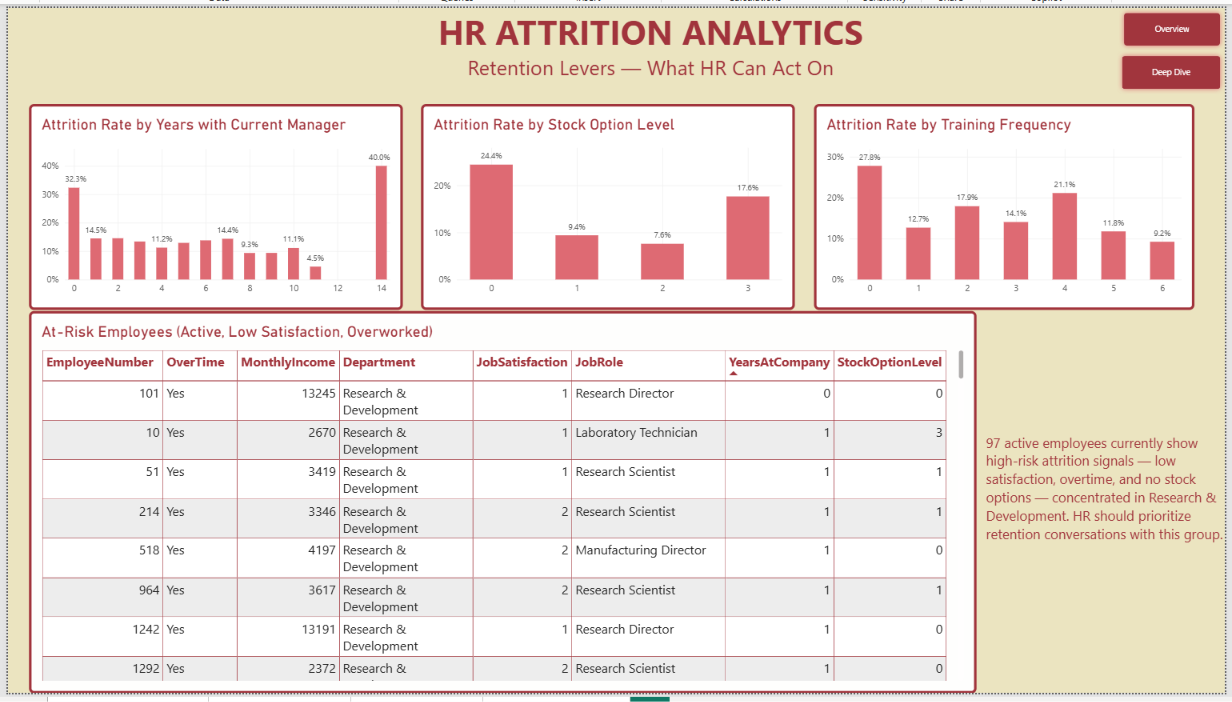

This screenshot's page, from the dashboard's own definition file:
{"tool":"powerbi","page":{"name":"Retention Levers","canvas":[1920,1080],"ordinal":2},"visuals":[{"type":"textbox","box":[673.3,0,680.2,151.7],"z":0},{"type":"textbox","box":[150,292,300,300],"z":1000},{"type":"clusteredColumnChart","title":"Attrition Rate by Years with Current Manager","fields":{"Category":["HR DATA.YearsWithCurrManager"],"Y":["HR DATA.Attrition Rate"]},"box":[33.1,151.7,589.5,324.4],"z":2000},{"type":"clusteredColumnChart","title":"Attrition Rate by Stock Option Level","fields":{"Category":["HR DATA.StockOptionLevel"],"Y":["HR DATA.Attrition Rate"]},"box":[650.6,151.7,589.5,324.4],"z":3000},{"type":"clusteredColumnChart","title":"Attrition Rate by Training Frequency","fields":{"Category":["HR DATA.TrainingTimesLastYear"],"Y":["HR DATA.Attrition Rate"]},"box":[1271.5,151.7,600,324.4],"z":4000},{"type":"tableEx","title":"At-Risk Employees (Active, Low Satisfaction, Overworked)","fields":{"Values":["HR DATA.EmployeeNumber","HR DATA.OverTime","HR DATA.MonthlyIncome","HR DATA.Department","HR DATA.JobSatisfaction","HR DATA.JobRole","HR DATA.YearsAtCompany","HR DATA.StockOptionLevel"]},"box":[32.9,477.5,1494.3,603.1],"z":5000},{"type":"textbox","box":[1541.7,671,378.7,218.2],"z":6000},{"type":"actionButton","box":[1749.6,67.9,170.8,67.9],"z":7000},{"type":"actionButton","box":[1752.7,0,167.3,67.3],"z":8000}]}

Visuals, with their boxes in screenshot pixels (x1, y1, x2, y2), scaled from the page's 1920x1080 canvas onto the 1232x702 screenshot:
textbox: (left=432, top=0, right=868, bottom=99)
textbox: (left=96, top=190, right=289, bottom=385)
"Attrition Rate by Years with Current Manager" clusteredColumnChart: (left=21, top=99, right=400, bottom=309)
"Attrition Rate by Stock Option Level" clusteredColumnChart: (left=417, top=99, right=796, bottom=309)
"Attrition Rate by Training Frequency" clusteredColumnChart: (left=816, top=99, right=1201, bottom=309)
"At-Risk Employees (Active, Low Satisfaction, Overworked)" tableEx: (left=21, top=310, right=980, bottom=701)
textbox: (left=989, top=436, right=1231, bottom=578)
actionButton: (left=1123, top=44, right=1231, bottom=88)
actionButton: (left=1125, top=0, right=1231, bottom=44)
